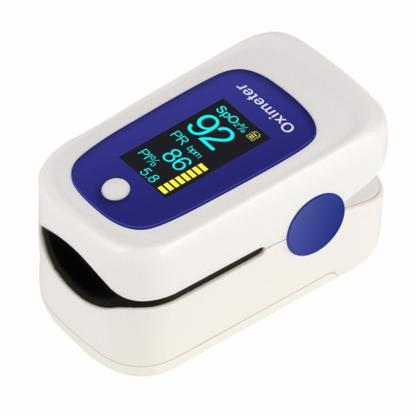Displays: (119, 98, 273, 198)
